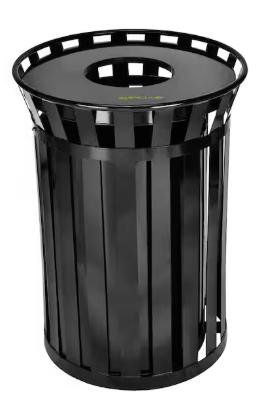garbage container: (9, 23, 253, 394)
